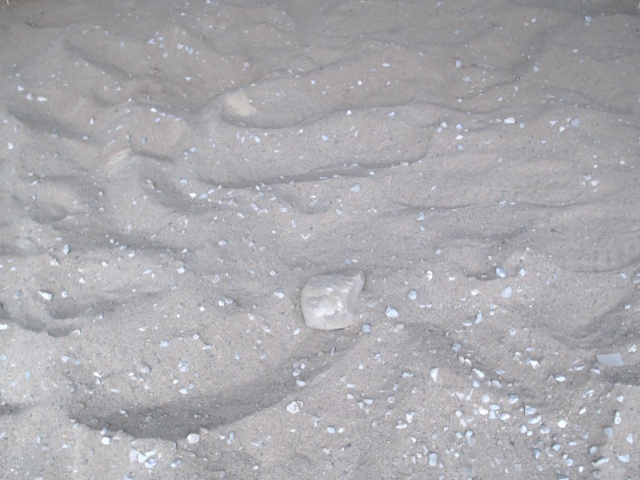rock: (294, 261, 371, 337)
